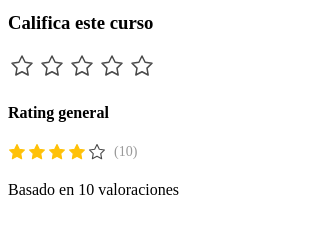
Scenario: RatingSection Component › applies optimistic update to average rating
Expected: the text "Basado en 10 valoraciones" is shown, x1=8 y1=181 x2=179 y2=198
Click the button named "Rate 5 stars": (142, 66) x1=128 y1=52 x2=156 y2=80
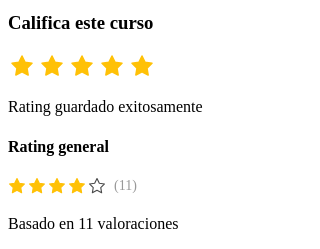
Expected: the text "Basado en 11 valoraciones" is shown, x1=8 y1=215 x2=178 y2=232
